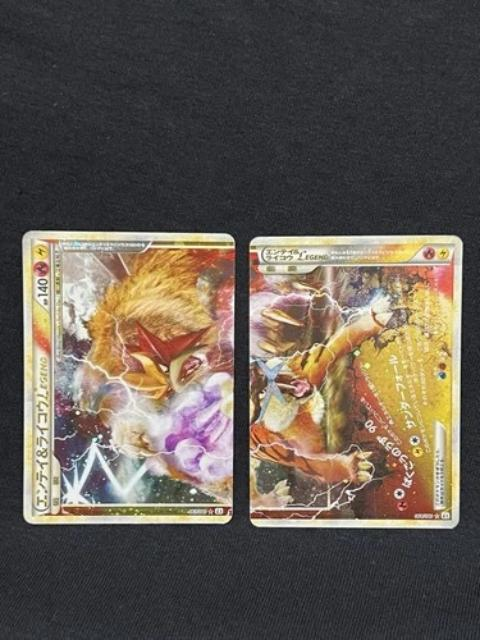Card: (18, 227, 238, 528)
Name: (247, 233, 466, 532), (32, 352, 53, 514), (262, 246, 333, 265)
